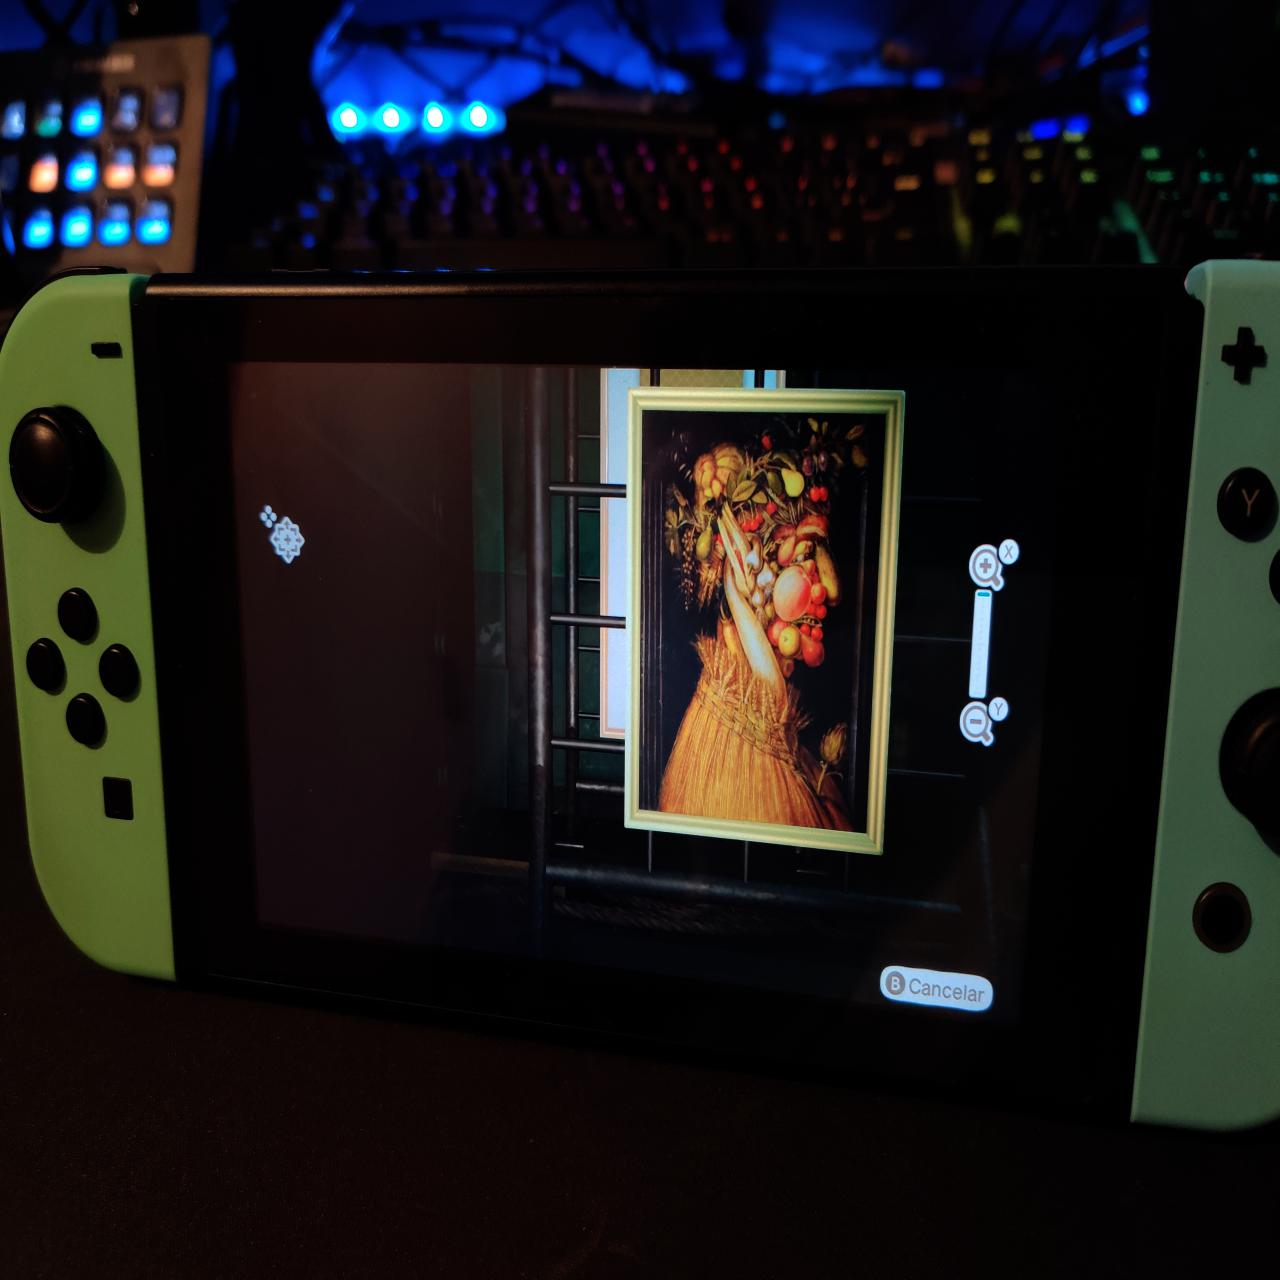Summer: (644, 411, 886, 837)
